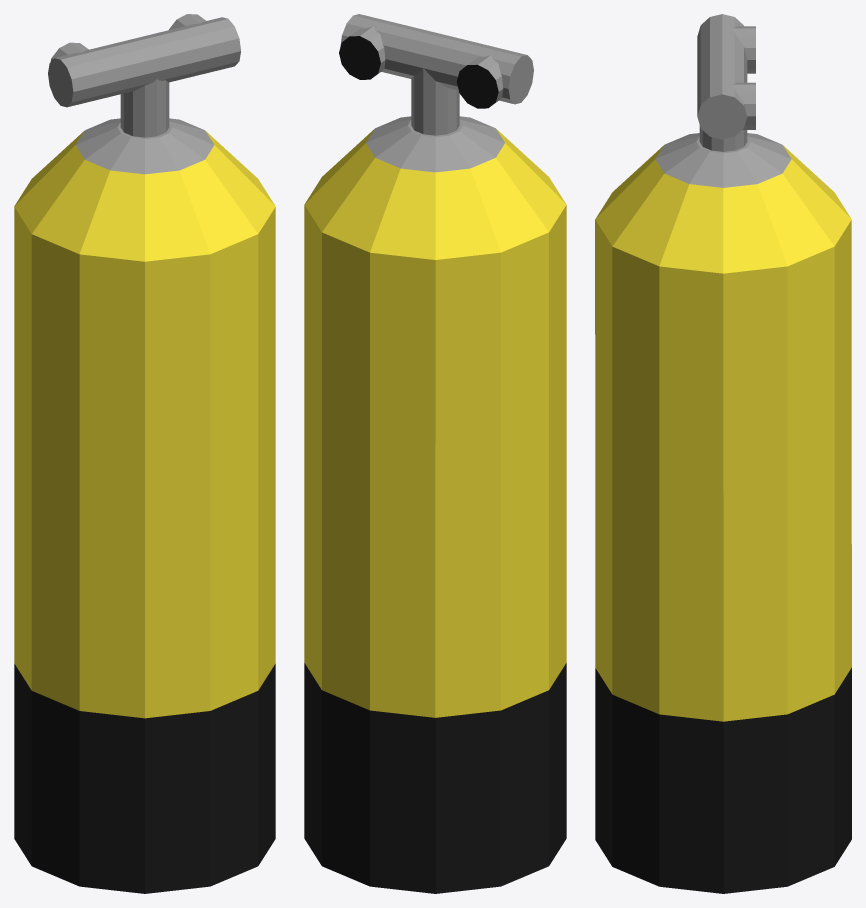
File: Scuba tank.glb
3 views of the same model, side by side, from view 1: azimuth 30°, elevation 25°; view 2: azimuth 150°, elevation 25°; view 3: azimuth 270°, elevation 25° (orthographic). The views are drawn at different scales.
Parts seen in each view (by area): view 1: Node; view 2: Node; view 3: Node.
Boxes of the visible parts, x1=… form: Node: x1=14, y1=14, x2=275, y2=893; Node: x1=304, y1=14, x2=566, y2=893; Node: x1=595, y1=14, x2=851, y2=893.
Bounding box in the file's own units: 0.27 × 0.9113 × 0.27.
